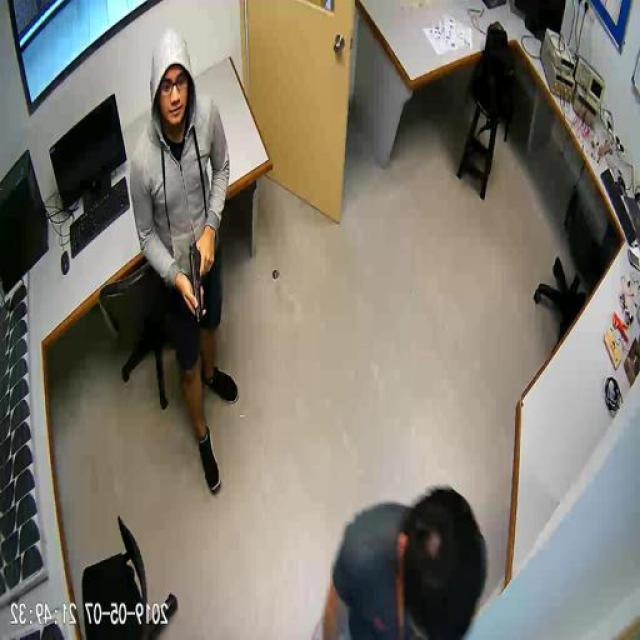weapon: (186, 241, 218, 327)
